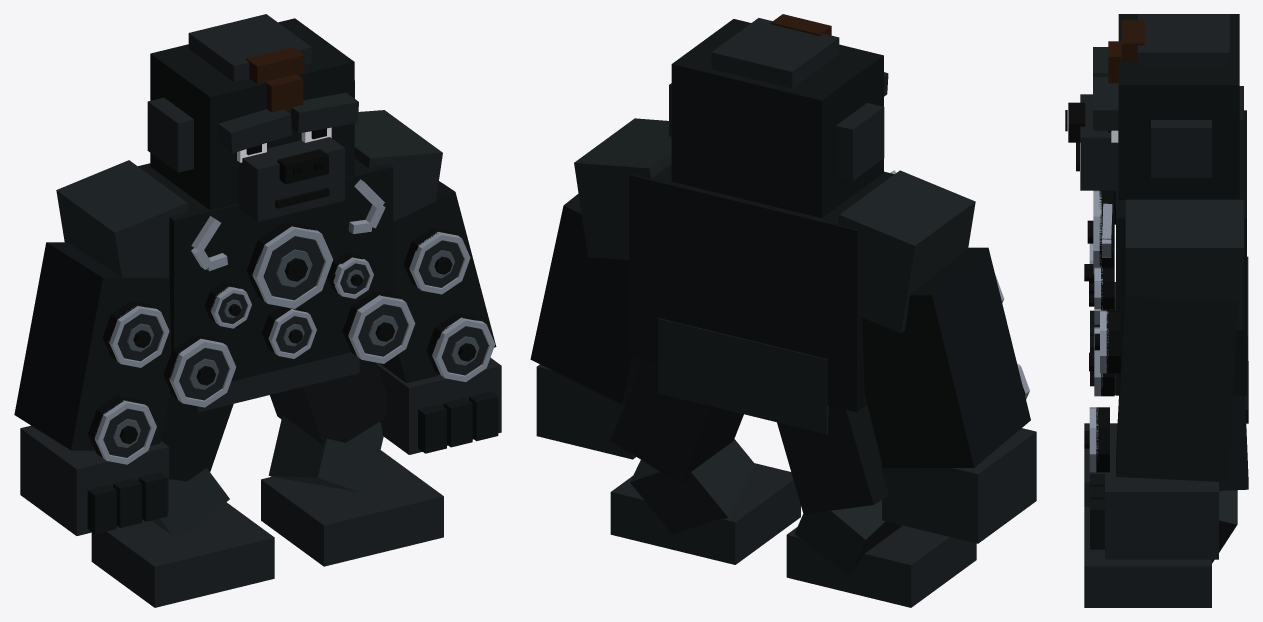
The model's file is GorilloSubwoofero_Mini.glb.
3 views of the same model, side by side, from view 1: azimuth 30°, elevation 25°; view 2: azimuth 150°, elevation 25°; view 3: azimuth 270°, elevation 25° (orthographic). The views are drawn at different scales.
Parts seen in each view (by area): view 1: GorilloSubwoofero_Mini; view 2: GorilloSubwoofero_Mini; view 3: GorilloSubwoofero_Mini.
Boxes of the visible parts, box(x1,y1,x2,y2) form: GorilloSubwoofero_Mini: box(14, 14, 501, 607); GorilloSubwoofero_Mini: box(530, 14, 1036, 607); GorilloSubwoofero_Mini: box(1065, 14, 1248, 607).
Bounding box in the file's own units: 1.8 × 2 × 0.6589.
1 material, 1 textured.
